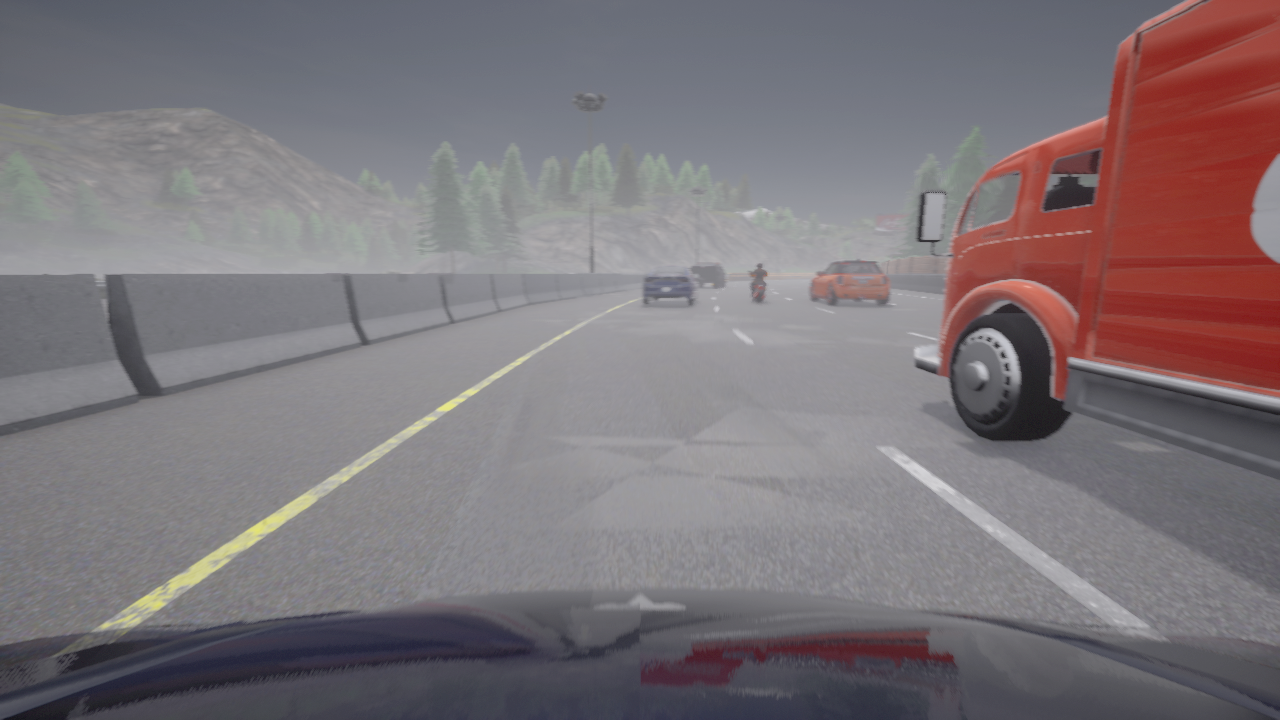cyclist: (914, 0, 1279, 480), (0, 588, 1279, 719), (810, 260, 889, 304), (643, 264, 698, 305), (689, 262, 725, 287), (753, 275, 765, 302)
